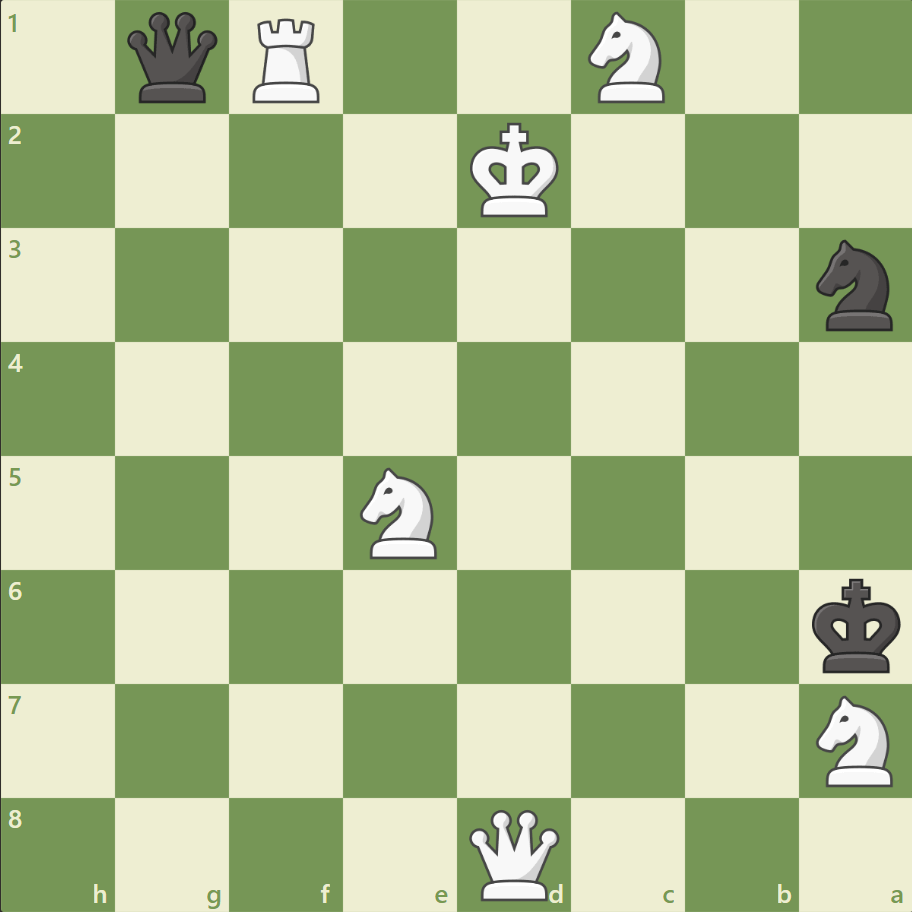K: (465, 117, 565, 225)
N: (351, 461, 449, 564), (806, 688, 903, 791), (579, 7, 676, 110)
Q: (464, 804, 563, 903)
R: (246, 12, 329, 109)
k: (806, 571, 906, 679)
n: (806, 234, 903, 337)
q: (124, 9, 223, 108)
